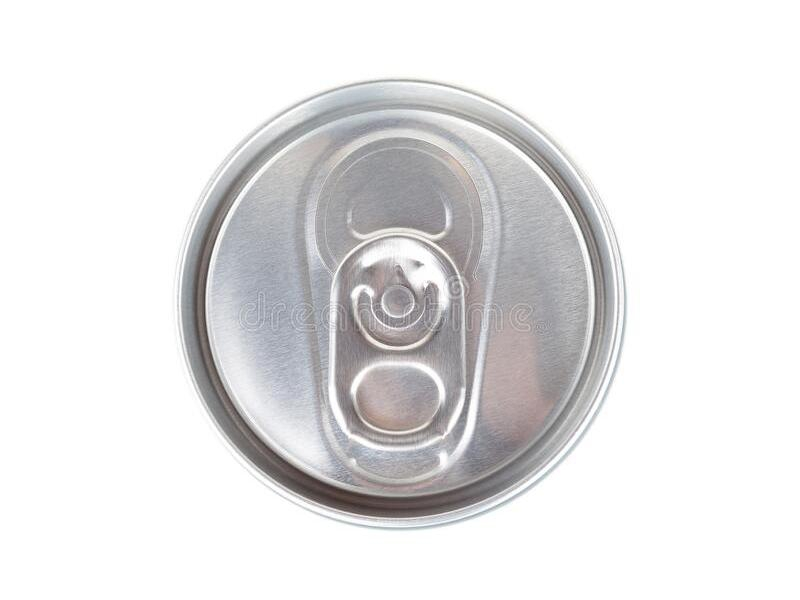can: (176, 80, 625, 530)
